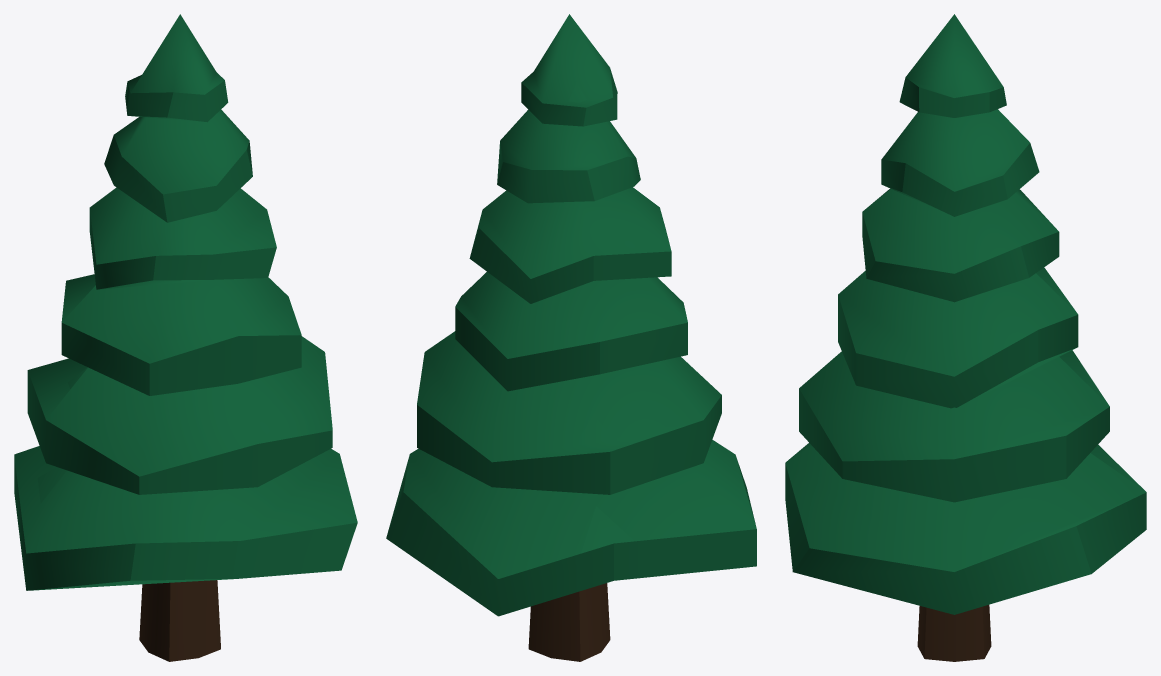
The model's file is sapin.fbx.
The picture shows the model from 3 angles, left to right: view 1: azimuth 30°, elevation 25°; view 2: azimuth 150°, elevation 25°; view 3: azimuth 270°, elevation 25°; orthographic projection.
Parts seen in each view (by area): view 1: sapin1_pCube2; view 2: sapin1_pCube2; view 3: sapin1_pCube2.
Boxes of the visible parts, left/top/right/bottom form: sapin1_pCube2: left=14, top=14, right=357, bottom=661; sapin1_pCube2: left=386, top=14, right=756, bottom=661; sapin1_pCube2: left=785, top=14, right=1146, bottom=661.
Size of the model in its own units: 3.58 by 6.42 by 3.33.
